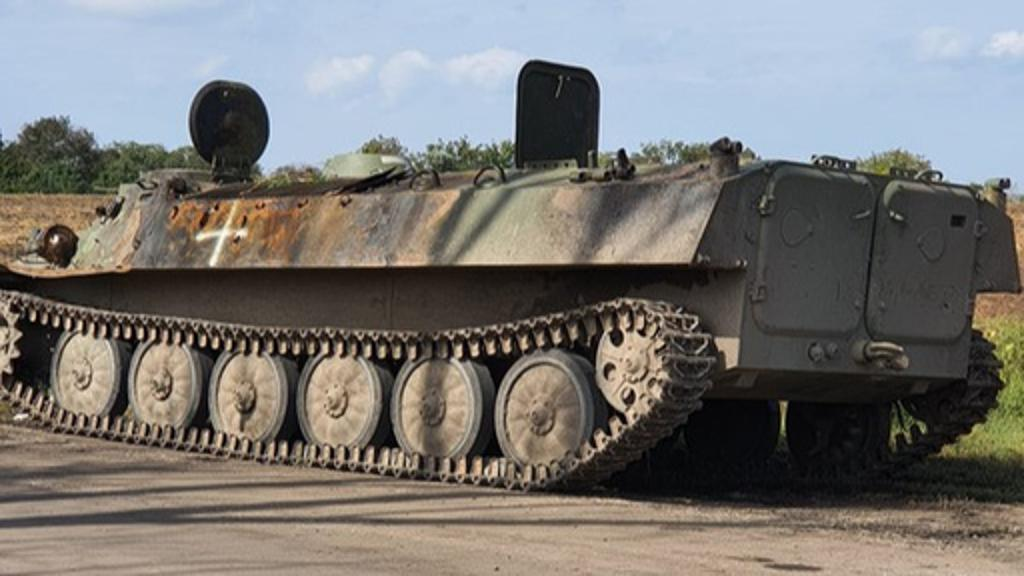APC-IFV: (0, 60, 1018, 492)
